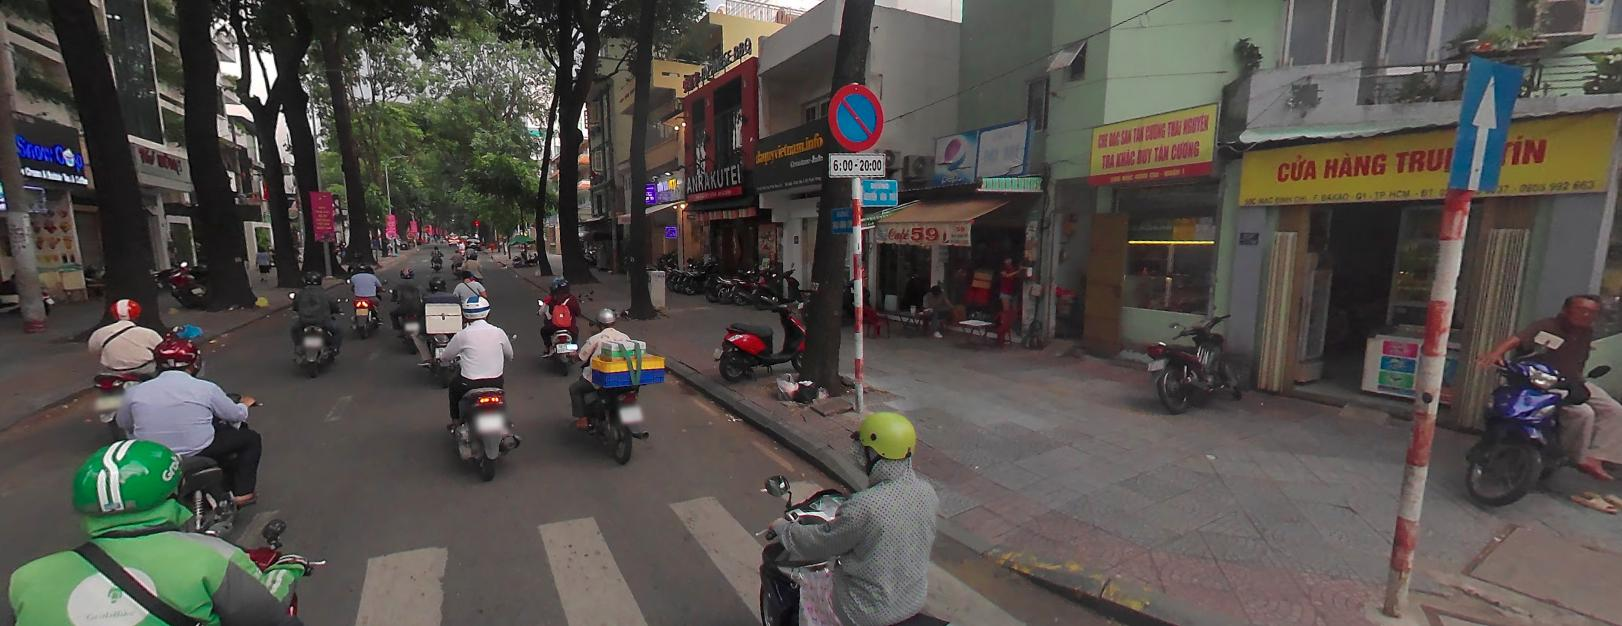Cam dung va do: (824, 81, 887, 151)
